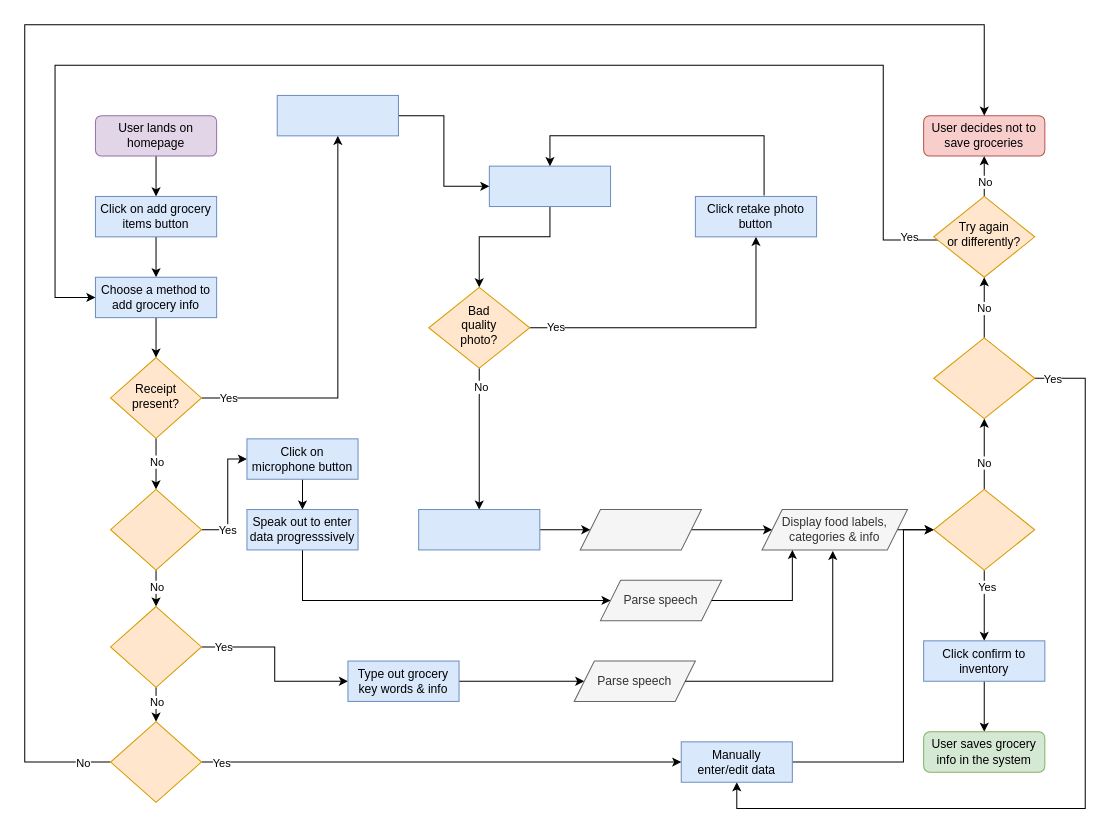
The diagram is 1111 pixels wide and 834 high, and some of its shapes have lost their labels. Each missing label, with the centre of its shape:
"Click confirm button" belongs at point 479,529.
"Click scan receipt button" belongs at point 337,115.
"Minor fixes?" belongs at point 984,378.
"Parse receipt" belongs at point 640,529.
"Satisfied?" belongs at point 984,529.
"Take photo of receipt" belongs at point 549,186.
"Use form only?" belongs at point 155,761.
"Use paragraph input?" belongs at point 155,646.
"Use speech-to-text?" belongs at point 155,529.
